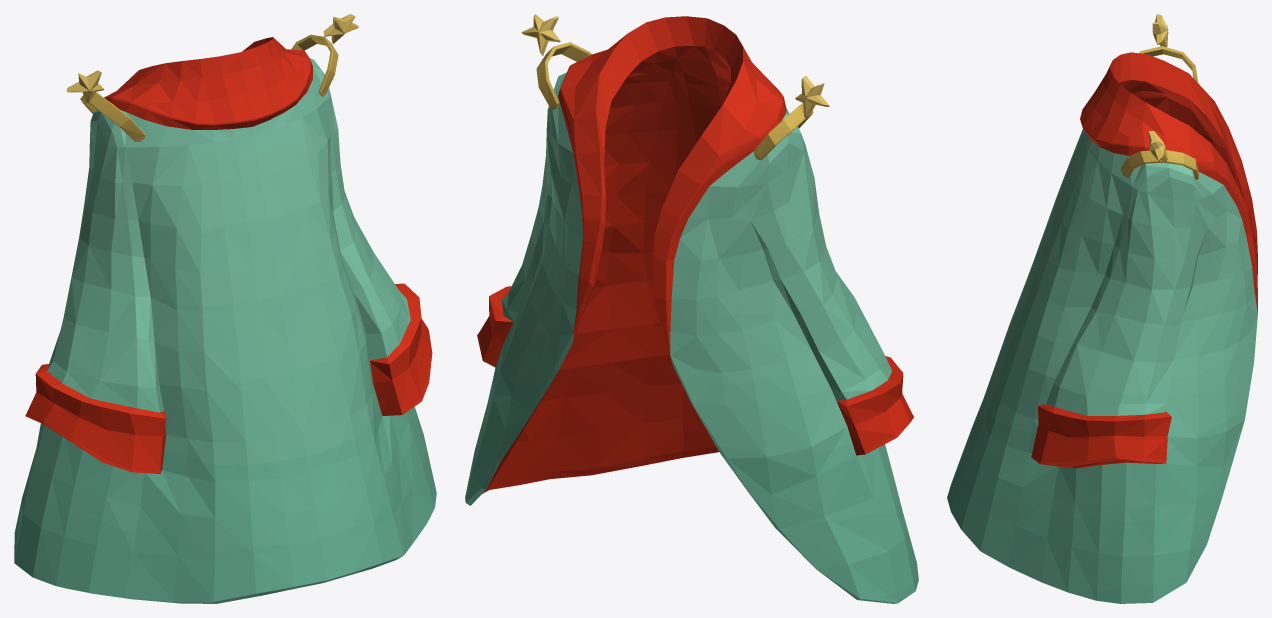
Rendered from CharSkyKid_Wing_AP11GreenCoat_01.glb.
3 renders of one model, left to right at view 1: azimuth 30°, elevation 25°; view 2: azimuth 150°, elevation 25°; view 3: azimuth 270°, elevation 25°, orthographic. The views are drawn at different scales.
Visible parts, largest first — view 1: CharSkyKid_Wing_AP11GreenCoat_01; view 2: CharSkyKid_Wing_AP11GreenCoat_01; view 3: CharSkyKid_Wing_AP11GreenCoat_01.
Boxes of the visible parts, left/top/right/bottom form: CharSkyKid_Wing_AP11GreenCoat_01: left=14, top=14, right=436, bottom=603; CharSkyKid_Wing_AP11GreenCoat_01: left=465, top=14, right=918, bottom=603; CharSkyKid_Wing_AP11GreenCoat_01: left=947, top=14, right=1257, bottom=603.
Size of the model in its own units: 7.63 by 8.78 by 5.48.
1 material, 1 textured.
